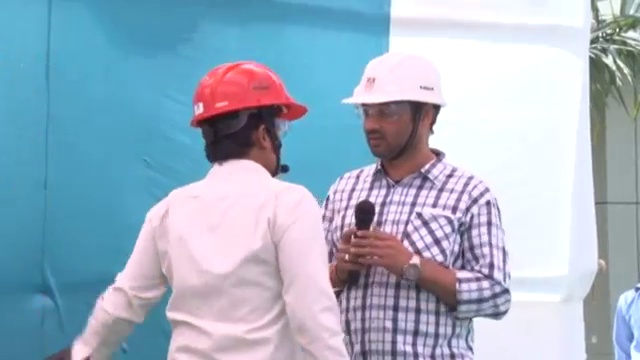helmet: (187, 57, 309, 130), (341, 51, 448, 109)
helmet_on: (186, 57, 308, 178), (340, 49, 449, 179)
person: (73, 59, 347, 360), (321, 51, 514, 360)
